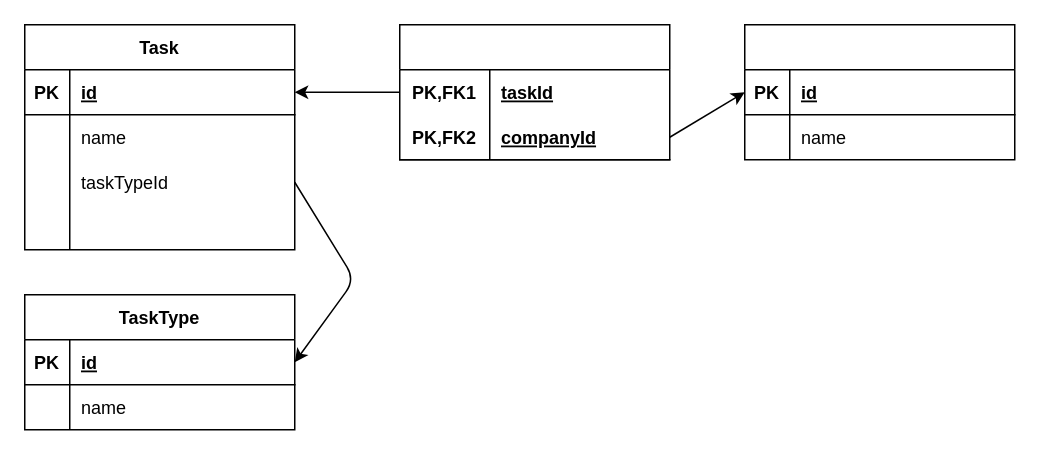
The diagram is 1040 pixels wide and 455 high, and some of its shapes have lost their labels. The box of each missing label's shape, as (x1, y1, x2, y2) in pixels:
Company: (743, 23, 1015, 160)
CompanyTask: (398, 23, 670, 160)
